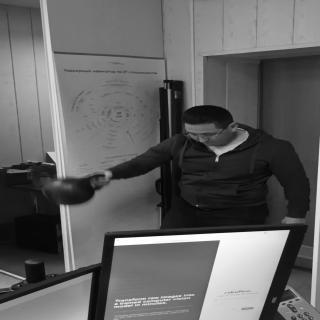kettlebell: (42, 172, 114, 208)
